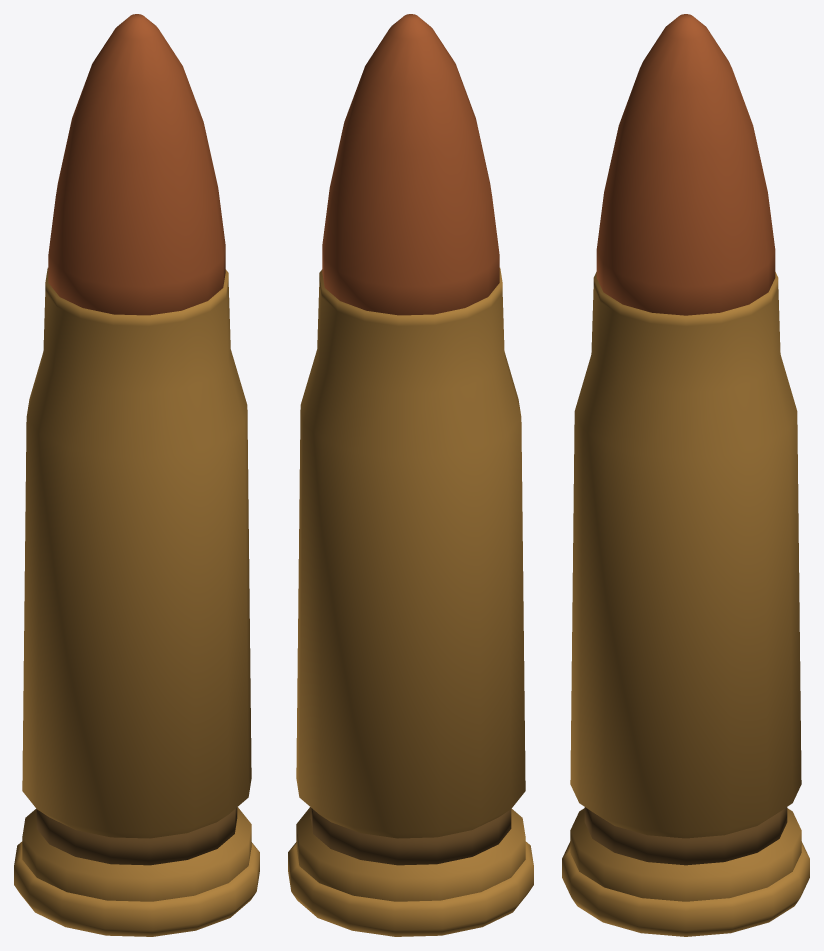
Rendered from BULIT.fbx.
3 renders of one model, left to right at view 1: azimuth 30°, elevation 25°; view 2: azimuth 150°, elevation 25°; view 3: azimuth 270°, elevation 25°, orthographic.
Visible parts, largest first — view 1: Cartridge_Case_001, Copper_Tip_001, Base_Rim_001, Extraction_Groove_001; view 2: Cartridge_Case_001, Copper_Tip_001, Base_Rim_001, Extraction_Groove_001; view 3: Cartridge_Case_001, Copper_Tip_001, Base_Rim_001, Extraction_Groove_001.
Part boxes in pixels (x1,y1,x2,y2): Cartridge_Case_001: (22,268,251,901); Copper_Tip_001: (48,14,225,315); Base_Rim_001: (14,841,259,936); Extraction_Groove_001: (36,807,237,865); Cartridge_Case_001: (296,268,525,901); Copper_Tip_001: (322,14,499,315); Base_Rim_001: (288,841,533,936); Extraction_Groove_001: (310,807,511,865); Cartridge_Case_001: (570,272,801,901); Copper_Tip_001: (596,14,775,315); Base_Rim_001: (562,841,809,936); Extraction_Groove_001: (584,807,787,865).
Bounding box in the file's own units: 0.4646 × 1.8 × 0.4646.
